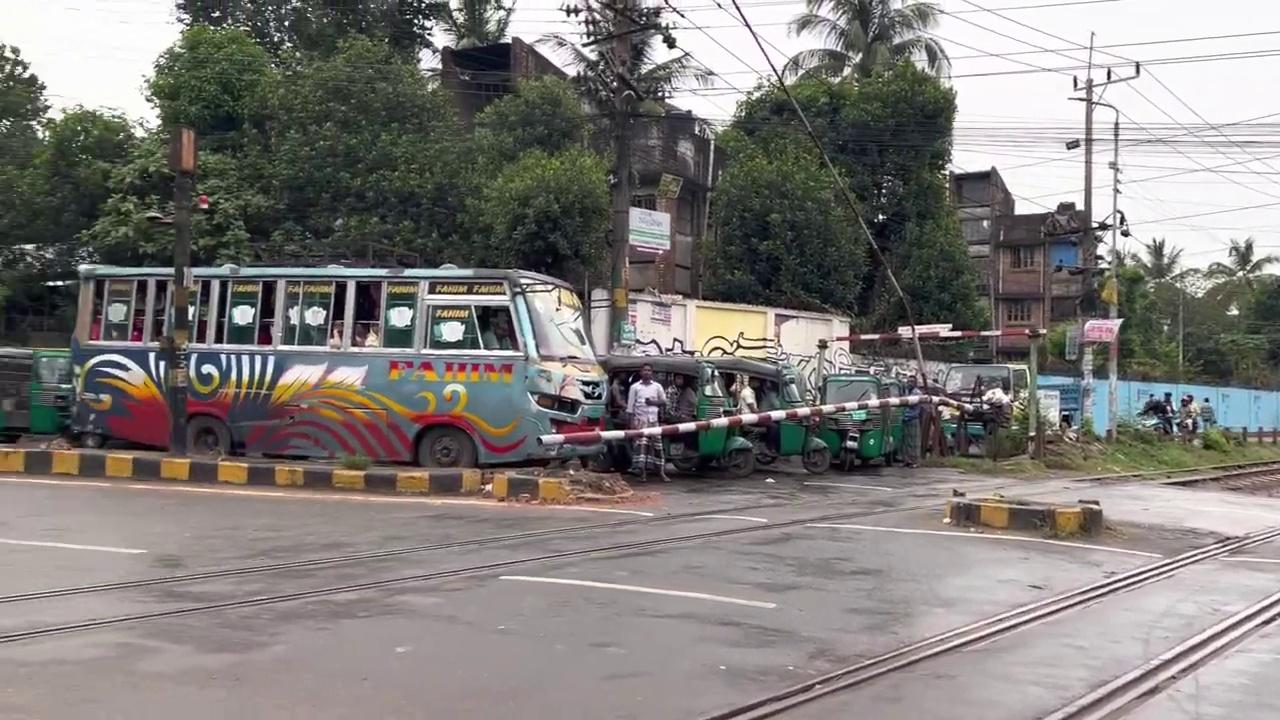Car: (1, 445, 638, 511)
Fence: (899, 376, 923, 468)
Garbage: (165, 123, 197, 457)
Motorcycle: (702, 520, 1278, 717)
Rickshaw: (66, 261, 612, 469), (599, 350, 830, 477)
